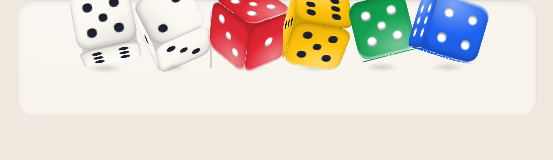
Test: DiceTray › a tap on the tray skips to the end (all faces, onLanded)
This screenshot has width=553, height=160.
Click the element with class "tray".
click(276, 58)  # box [16,0,536,116]
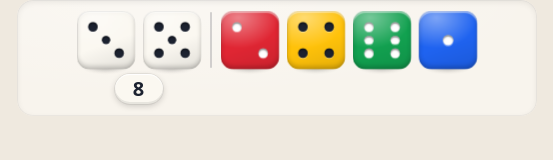
Expected: the number of pictures is 6, [78,12,134,68]; [144,12,200,68]; [222,12,278,68]; [288,12,344,68]; [354,12,410,68]; [420,12,476,68]
Expected: the text with class "tray__sum" reads "8", [133,75,144,102]
